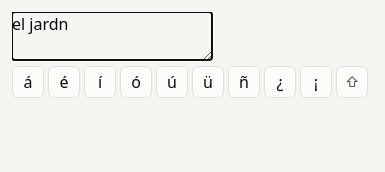
Test case: AccentKeyboard › inserts a character at the cursor
What coordinates should you click on to do the following:
click the button named "Insert í"
I would click on:
 (100, 82)
Its box is x1=84 y1=66 x2=116 y2=98.
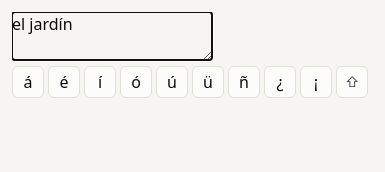
Result: the text box named "text" holds "el jardín" at x1=12 y1=12 x2=212 y2=60
